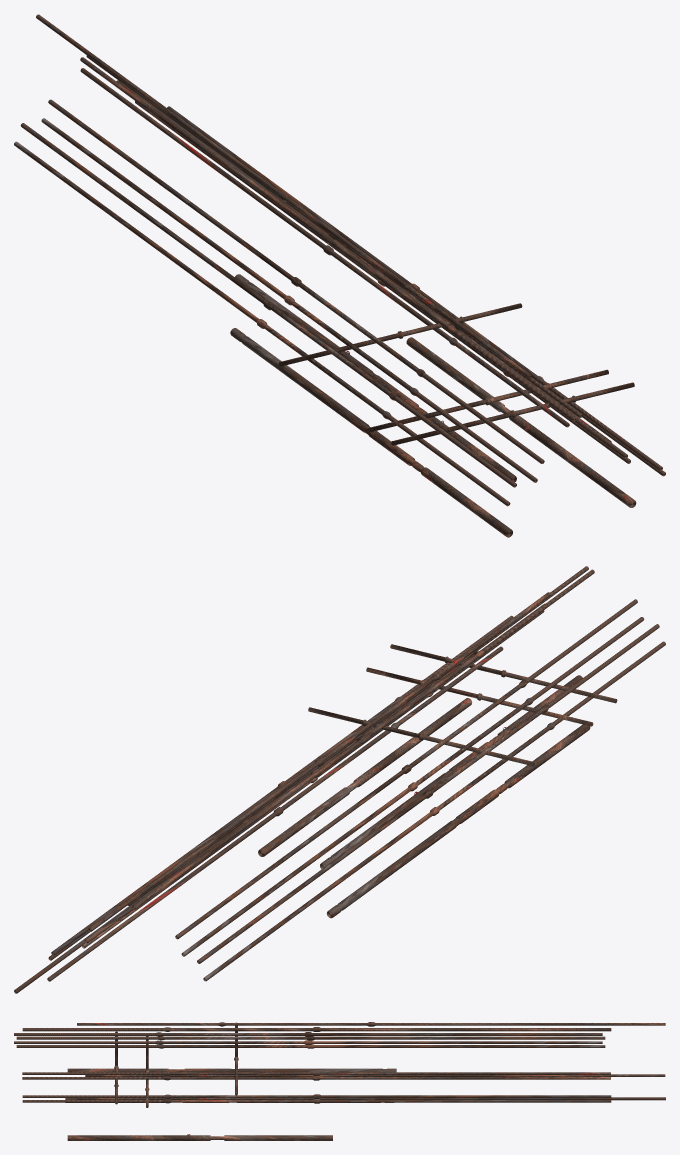
The model's file is Pipes.glb.
The picture shows the model from 3 angles, top to bottom: view 1: azimuth 30°, elevation 25°; view 2: azimuth 150°, elevation 25°; view 3: azimuth 270°, elevation 25°; orthographic projection. The views are drawn at different scales.
Visible parts, largest first — view 1: Cylinder.008; view 2: Cylinder.008; view 3: Cylinder.008.
Boxes of the visible parts, bbox=[...] form: Cylinder.008: bbox=[14, 14, 665, 537]; Cylinder.008: bbox=[14, 566, 665, 993]; Cylinder.008: bbox=[14, 1022, 665, 1140].
Size of the model in its own units: 8.32 by 4.76 by 31.
1 material, 1 textured.
